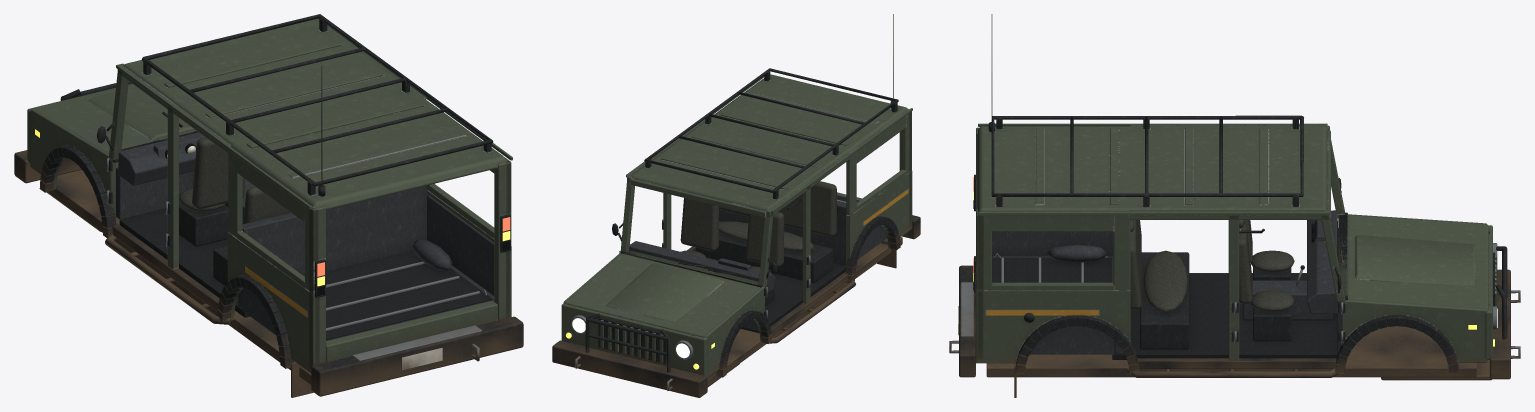
Rendered from mule_body.glb.
The picture shows the model from 3 angles, left to right: view 1: azimuth 30°, elevation 25°; view 2: azimuth 150°, elevation 25°; view 3: azimuth 270°, elevation 25°; orthographic projection. The views are drawn at different scales.
Visible parts, largest first — view 1: mule_body_ext, mule_body_int; view 2: mule_body_ext, mule_body_int; view 3: mule_body_ext, mule_body_int.
Part boxes in pixels (x1,y1,x2,y2): mule_body_ext: (14,14,523,397); mule_body_int: (116,111,494,341); mule_body_ext: (552,14,920,397); mule_body_int: (629,181,887,333); mule_body_ext: (949,14,1520,397); mule_body_int: (992,210,1341,359).
Bounding box in the file's own units: 2.23 × 3.15 × 5.36.
5 materials, 2 textured.
